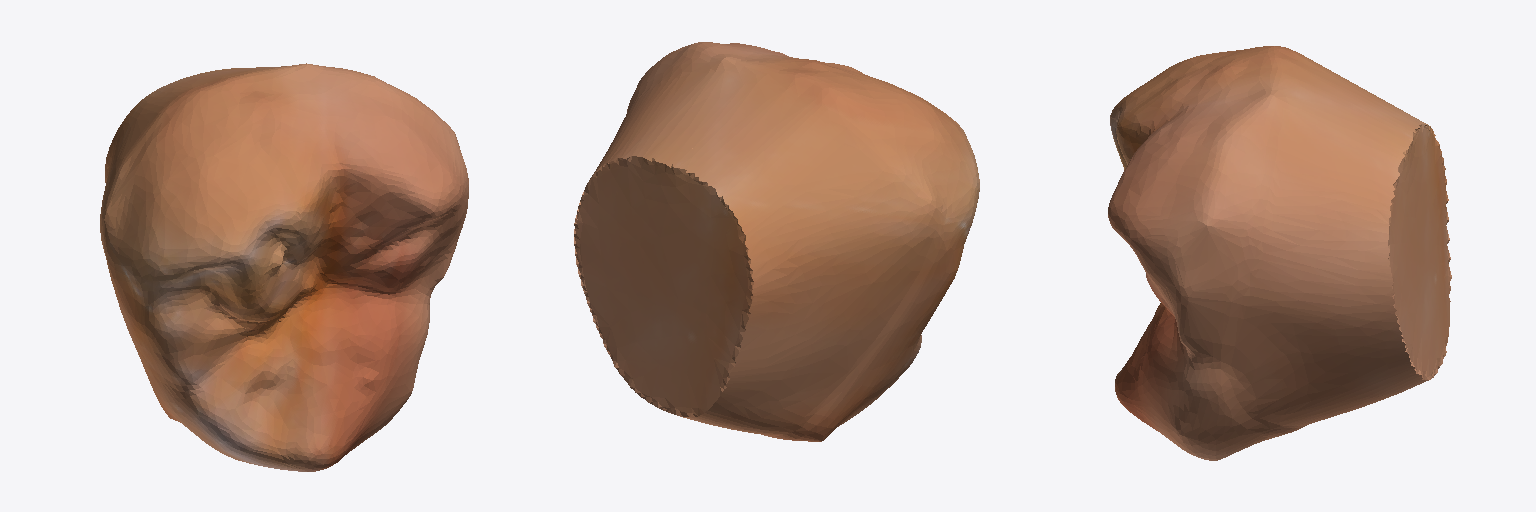
3 renders of one model, left to right at view 1: azimuth 30°, elevation 25°; view 2: azimuth 150°, elevation 25°; view 3: azimuth 270°, elevation 25°, orthographic.
Size of the model in its own units: 10.02 by 10.9 by 9.16.
1 materials, 1 textured.